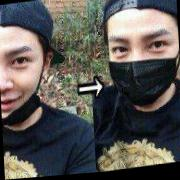OK: (105, 27, 180, 108)
WRONG: (1, 34, 44, 129)
